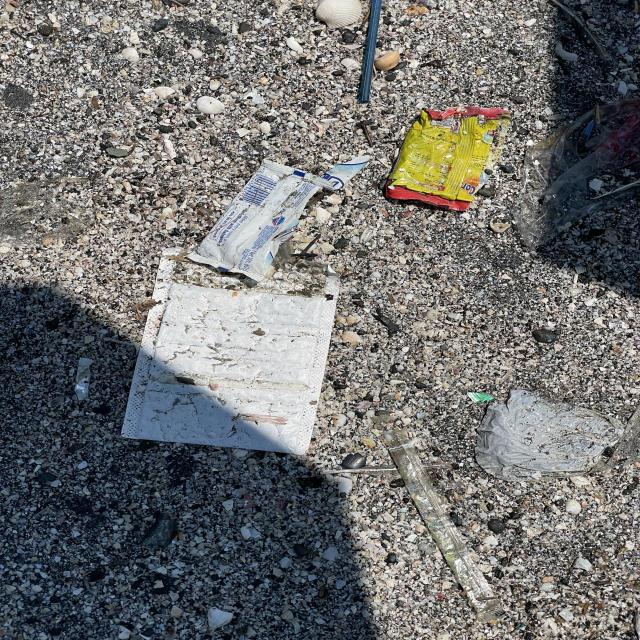plastic_waste: (122, 248, 347, 457), (189, 166, 351, 288), (381, 106, 509, 211), (478, 388, 621, 472), (361, 1, 381, 105)
